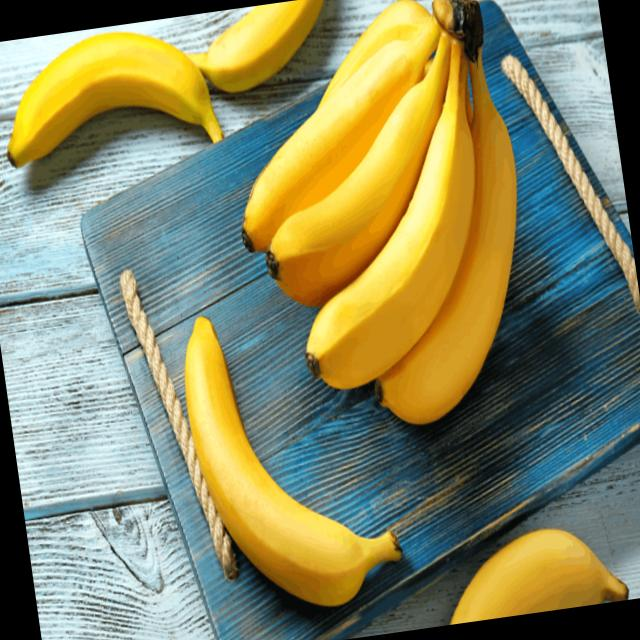chuoi: (185, 318, 401, 604), (306, 31, 474, 387), (378, 50, 516, 423), (267, 35, 450, 305), (243, 16, 439, 250), (8, 32, 223, 165), (451, 530, 627, 624), (187, 0, 322, 91)
